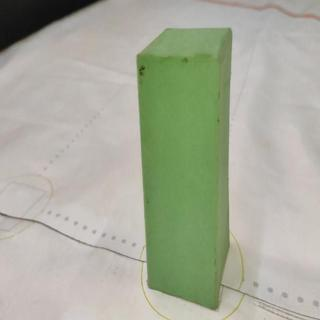greenbox: (135, 27, 237, 308)
